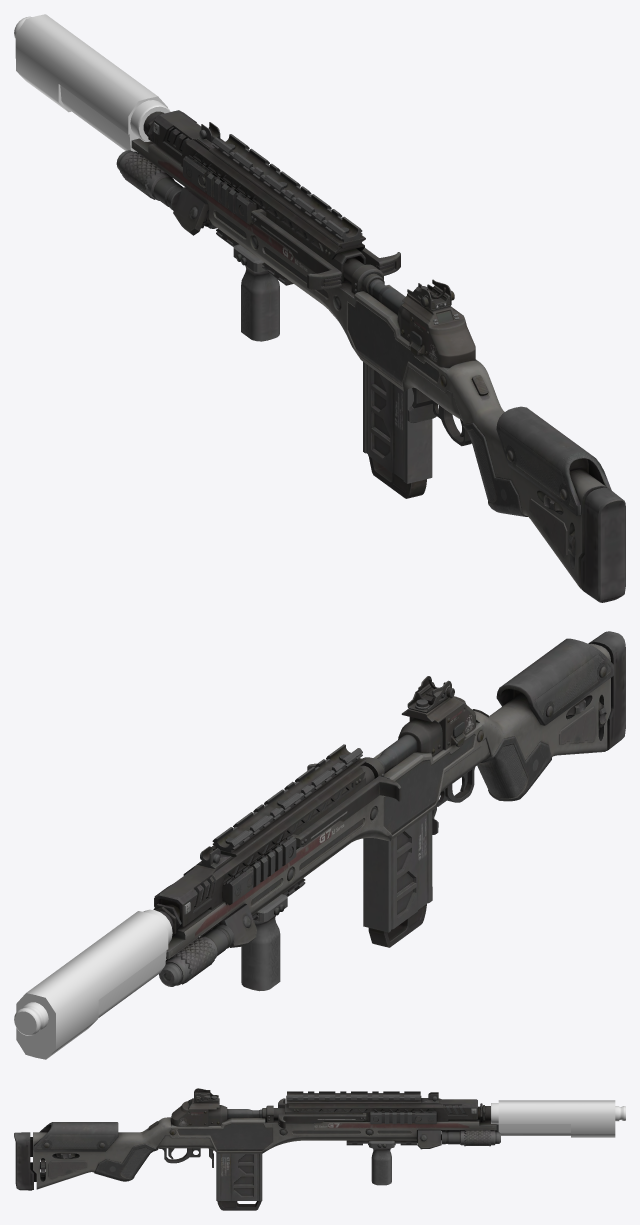
The model's file is apex_g7.glb.
3 renders of one model, top to bottom at view 1: azimuth 30°, elevation 25°; view 2: azimuth 150°, elevation 25°; view 3: azimuth 270°, elevation 25°, orthographic. The views are drawn at different scales.
Parts seen in each view (by area): view 1: body__tex_apex_g7_2, barrel__polymer_4, mag__tex_apex_g7_0, cycle__tex_apex_g7_m1, irons__tex_apex_g7_3; view 2: body__tex_apex_g7_2, barrel__polymer_4, mag__tex_apex_g7_0, cycle__tex_apex_g7_m1, irons__tex_apex_g7_3; view 3: body__tex_apex_g7_2, barrel__polymer_4, mag__tex_apex_g7_0, cycle__tex_apex_g7_m1, irons__tex_apex_g7_3.
Part boxes in pixels (bbox=[...]): body__tex_apex_g7_2: bbox=[116, 110, 625, 602]; barrel__polymer_4: bbox=[14, 14, 170, 152]; mag__tex_apex_g7_0: bbox=[363, 362, 432, 498]; cycle__tex_apex_g7_m1: bbox=[250, 209, 405, 314]; irons__tex_apex_g7_3: bbox=[407, 279, 454, 310]; body__tex_apex_g7_2: bbox=[153, 631, 625, 991]; barrel__polymer_4: bbox=[14, 909, 172, 1059]; mag__tex_apex_g7_0: bbox=[363, 811, 432, 947]; cycle__tex_apex_g7_m1: bbox=[291, 734, 417, 847]; irons__tex_apex_g7_3: bbox=[407, 676, 454, 713]; body__tex_apex_g7_2: bbox=[14, 1091, 500, 1190]; barrel__polymer_4: bbox=[491, 1100, 625, 1137]; mag__tex_apex_g7_0: bbox=[216, 1153, 262, 1210]; cycle__tex_apex_g7_m1: bbox=[227, 1098, 366, 1128]; irons__tex_apex_g7_3: bbox=[194, 1088, 218, 1102].
Bounding box in the file's own units: 0.1118 × 0.2621 × 1.24.
2 materials, 1 textured.
